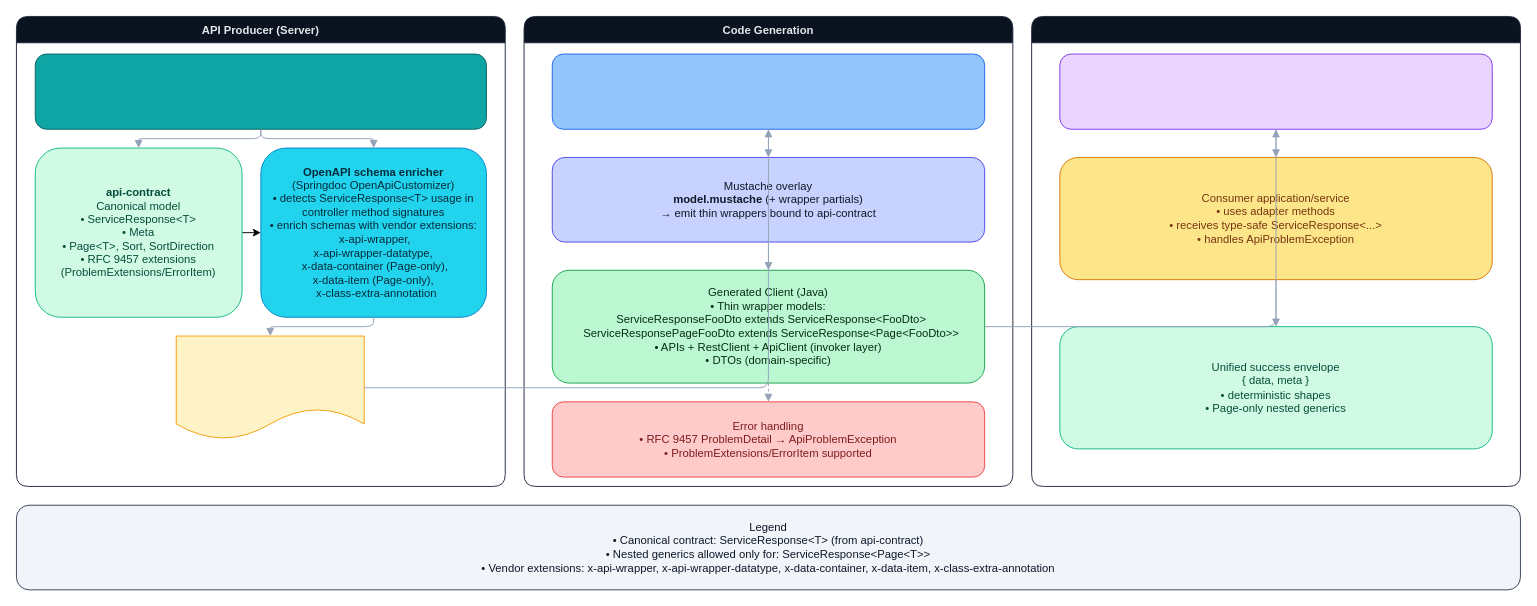
This 1537x606 diagram has some shape labels left out. The shapes that lost their labels are listed below. From the top down, each one's box as (x1, y1, x2, y2) in pixels, then its label:
(34, 53, 486, 129): service-api (example) Spring Boot 3.5.9 + Springdoc 2.8.15
(551, 53, 985, 129): OpenAPI Generator 7.18.0 java / restclient
(1059, 53, 1492, 129): Adapter Layer ServiceClientAdapter (stable boundary over generated client)
(1031, 16, 1520, 486): API Consumer (Client App)
(175, 335, 364, 439): /v3/api-docs.yaml (OpenAPI 3.1)
